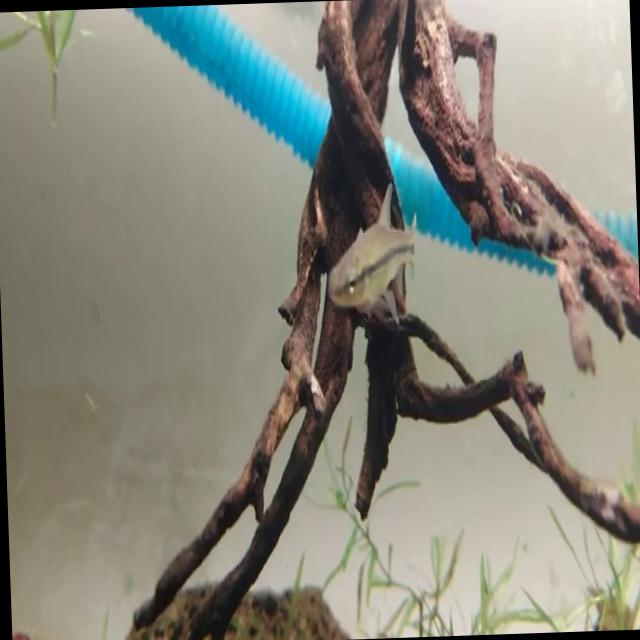Cakil Baligi: (320, 176, 419, 330)
